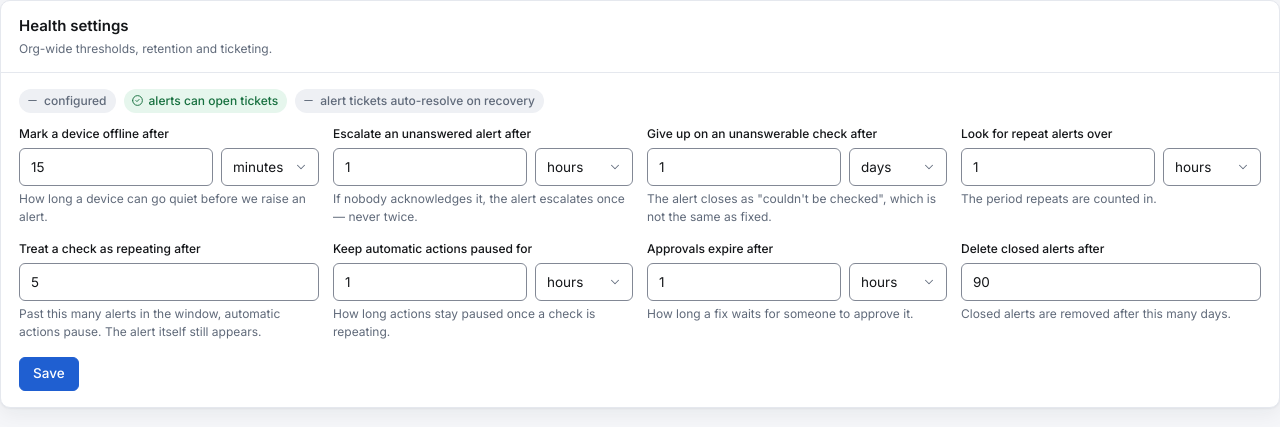
Test: HealthSettingsPanel › keeps every edit after a failed save, so the rejected value can be corrected
Replace the text in the field labelled "Delete closed alerts after" with "3000": (1111, 282) [961, 263, 1261, 301]
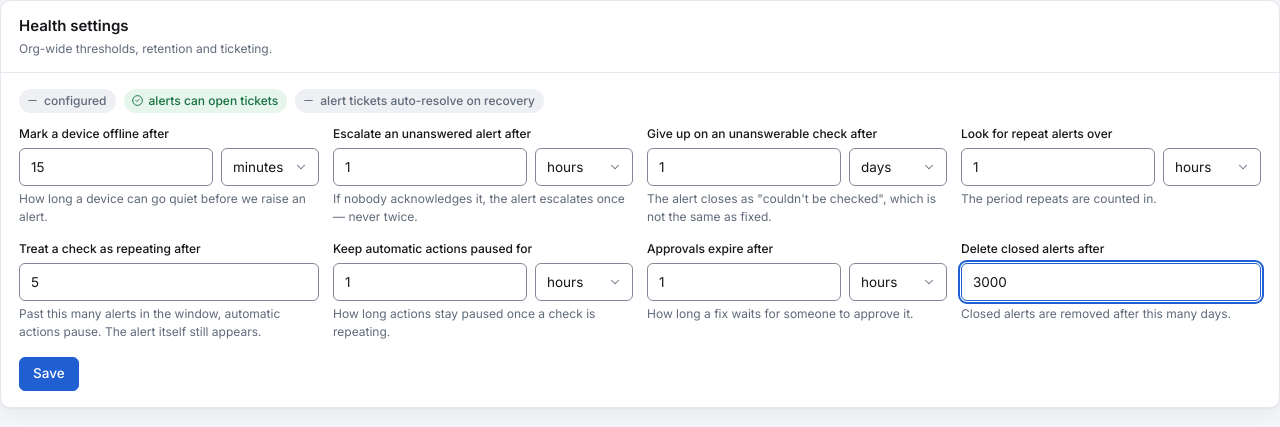
Click the button "Save": (49, 374) [19, 357, 79, 390]
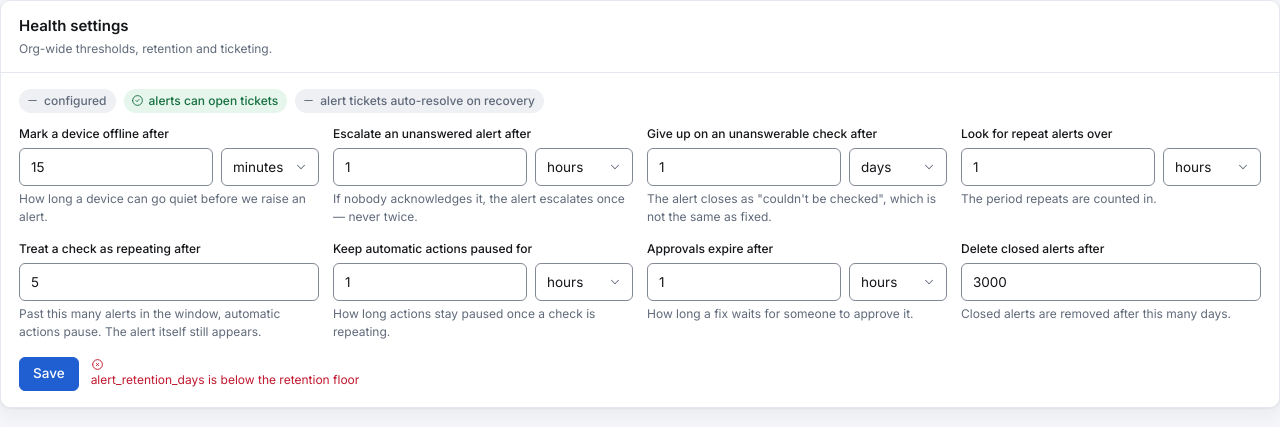
expect the message shows "below the retention floor": met, box [91, 372, 359, 387]
